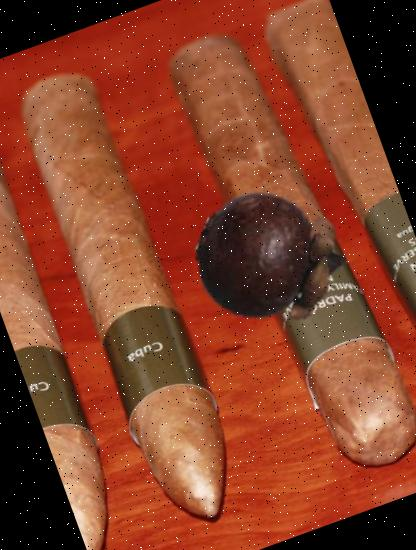Mangostan: (176, 166, 364, 354)
